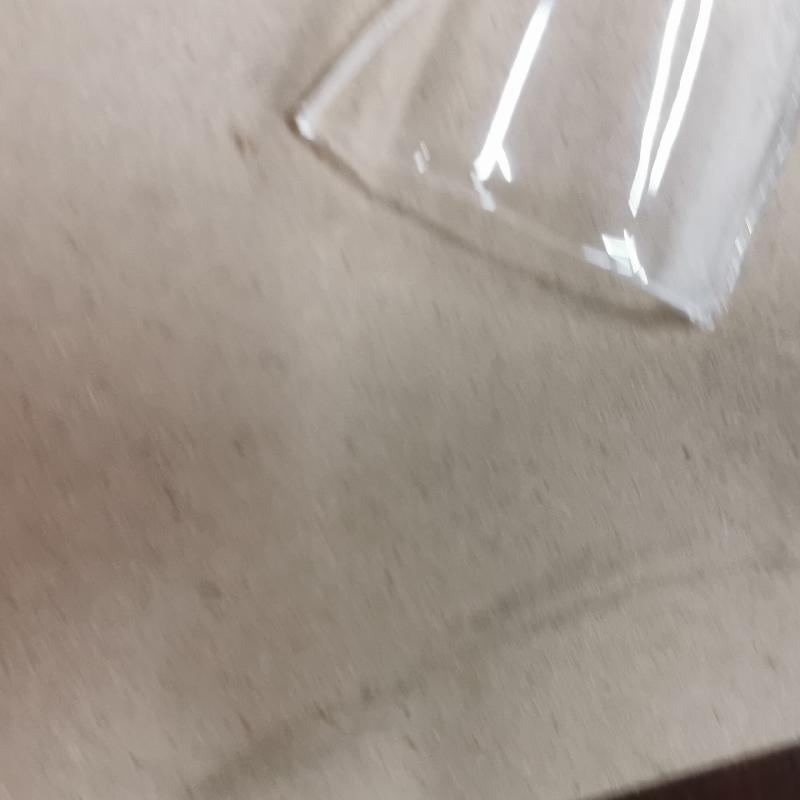glass: (292, 4, 788, 334)
